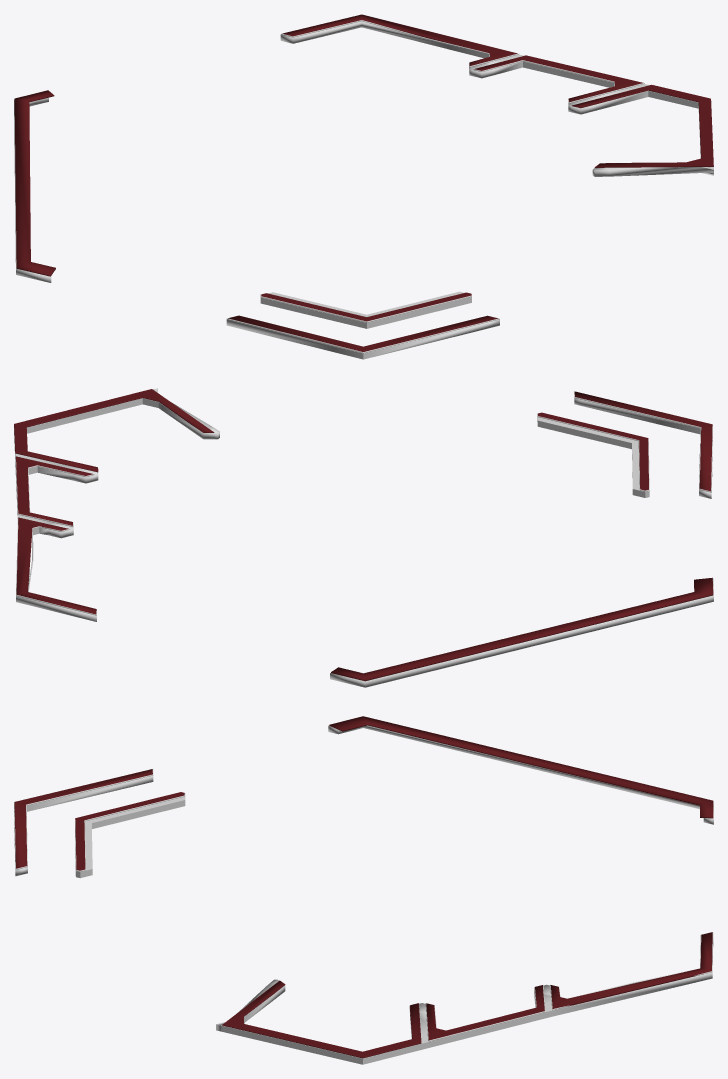
Rendered from DiscoSeats.fbx.
The picture shows the model from 3 angles, top to bottom: view 1: azimuth 30°, elevation 25°; view 2: azimuth 150°, elevation 25°; view 3: azimuth 270°, elevation 25°; orthographic projection.
Parts seen in each view (by area): view 1: Objeto_226.001, Objeto_183.001, Objeto_24.004, Objeto_174.001, Objeto_22.004, Objeto_182.001, Objeto_184, Objeto_181.001, Objeto_188, Objeto_173.001, Objeto_23.001; view 2: Objeto_183.001, Objeto_226.001, Objeto_23.001, Objeto_174.001, Objeto_182.001, Objeto_184, Objeto_24.004, Objeto_181.001, Objeto_188, Objeto_22.004, Objeto_173.001; view 3: Objeto_226.001, Objeto_183.001, Objeto_174.001, Objeto_182.001, Objeto_23.001, Objeto_184, Objeto_24.004, Objeto_181.001, Objeto_188, Objeto_22.004, Objeto_173.001.
Part boxes in pixels (<box>): Objeto_226.001: <box>280,21,713,176</box>; Objeto_183.001: <box>14,90,55,276</box>; Objeto_24.004: <box>260,291,471,328</box>; Objeto_174.001: <box>573,85,713,166</box>; Objeto_22.004: <box>226,319,499,359</box>; Objeto_182.001: <box>282,14,517,65</box>; Objeto_184: <box>228,315,498,351</box>; Objeto_181.001: <box>474,55,642,102</box>; Objeto_188: <box>261,292,471,321</box>; Objeto_173.001: <box>572,89,713,167</box>; Objeto_23.001: <box>14,97,51,282</box>; Objeto_183.001: <box>331,577,713,681</box>; Objeto_226.001: <box>14,388,219,621</box>; Objeto_23.001: <box>330,578,713,687</box>; Objeto_174.001: <box>14,389,212,470</box>; Objeto_182.001: <box>16,517,96,614</box>; Objeto_184: <box>574,391,712,491</box>; Objeto_24.004: <box>537,415,649,497</box>; Objeto_181.001: <box>16,456,93,525</box>; Objeto_188: <box>538,412,648,490</box>; Objeto_22.004: <box>574,398,712,498</box>; Objeto_173.001: <box>14,390,214,472</box>; Objeto_226.001: <box>216,941,713,1064</box>; Objeto_183.001: <box>329,716,713,818</box>; Objeto_174.001: <box>223,981,420,1057</box>; Objeto_182.001: <box>550,932,712,1008</box>; Objeto_23.001: <box>328,725,713,824</box>; Objeto_184: <box>14,769,152,868</box>; Objeto_24.004: <box>75,796,185,878</box>; Objeto_181.001: <box>426,985,544,1040</box>; Objeto_188: <box>75,792,184,870</box>; Objeto_22.004: <box>14,775,153,876</box>; Objeto_173.001: <box>222,980,421,1058</box>.
Bounding box in the file's own units: 47.91 × 0.49 × 41.48.
